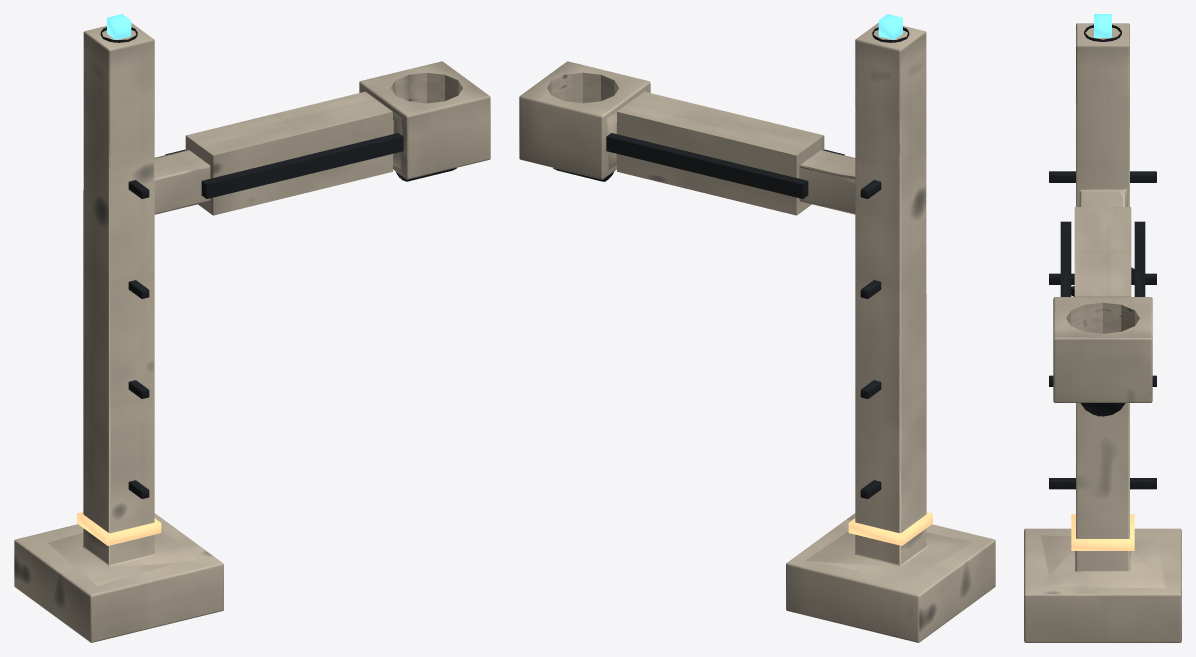
The model's file is place_lane_beacon_v4.glb.
The picture shows the model from 3 angles, left to right: view 1: azimuth 30°, elevation 25°; view 2: azimuth 150°, elevation 25°; view 3: azimuth 270°, elevation 25°; orthographic projection. The views are drawn at different scales.
Parts seen in each view (by area): view 1: LOD0_Merged_Material_Hull, LOD0_Merged_Material_Mechanical, LOD1_Merged_Material_Hull, LOD2_Merged_Material_Hull, LOD0_Merged_Material_Warm; view 2: LOD0_Merged_Material_Hull, LOD1_Merged_Material_Hull, LOD0_Merged_Material_Mechanical, LOD2_Merged_Material_Hull, LOD0_Merged_Material_Warm; view 3: LOD0_Merged_Material_Hull, LOD1_Merged_Material_Hull, LOD0_Merged_Material_Mechanical, LOD2_Merged_Material_Hull, LOD0_Merged_Material_Warm, LOD1_Merged_Material_Mechanical, LOD0_HOOK_EMISSIVE.
Part boxes in pixels (x1,y1,x2,y2): LOD0_Merged_Material_Hull: [14, 23, 490, 642]; LOD0_Merged_Material_Mechanical: [100, 27, 456, 498]; LOD1_Merged_Material_Hull: [15, 27, 490, 642]; LOD2_Merged_Material_Hull: [82, 39, 490, 642]; LOD0_Merged_Material_Warm: [77, 512, 161, 545]; LOD0_Merged_Material_Hull: [519, 23, 995, 642]; LOD1_Merged_Material_Hull: [519, 31, 995, 642]; LOD0_Merged_Material_Mechanical: [553, 27, 909, 498]; LOD2_Merged_Material_Hull: [519, 31, 995, 642]; LOD0_Merged_Material_Warm: [848, 512, 932, 545]; LOD0_Merged_Material_Hull: [1024, 23, 1181, 642]; LOD1_Merged_Material_Hull: [1024, 23, 1181, 642]; LOD0_Merged_Material_Mechanical: [1049, 24, 1156, 489]; LOD2_Merged_Material_Hull: [1024, 23, 1181, 642]; LOD0_Merged_Material_Warm: [1071, 514, 1134, 550]; LOD1_Merged_Material_Mechanical: [1049, 25, 1156, 488]; LOD0_HOOK_EMISSIVE: [1094, 14, 1111, 37].
Size of the model in its own units: 10.85 by 14.5 by 3.5.
4 materials, 4 textured.
